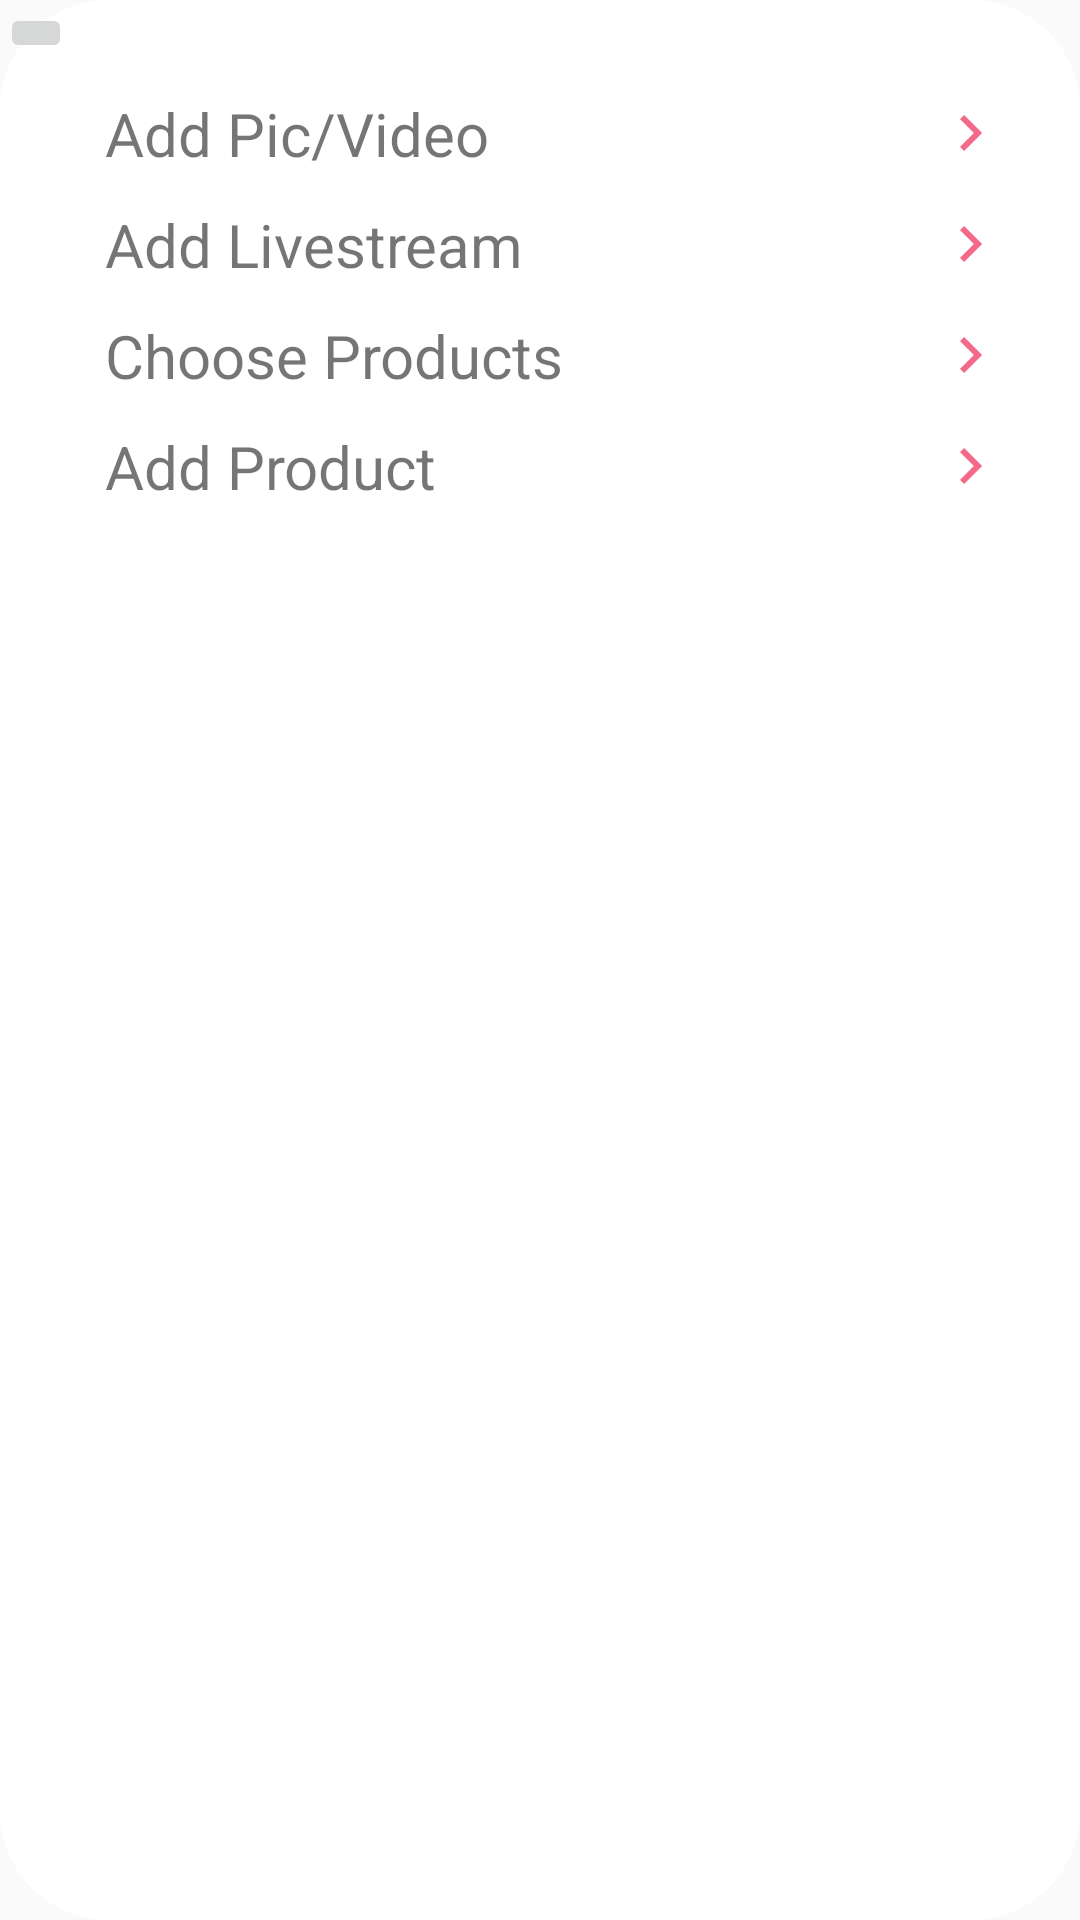

Screen size 1080 x 1920. Icon name, then its center in pixels as (x=x, y=y):
next: (x=971, y=133), (x=971, y=244), (x=971, y=355), (x=971, y=466)
